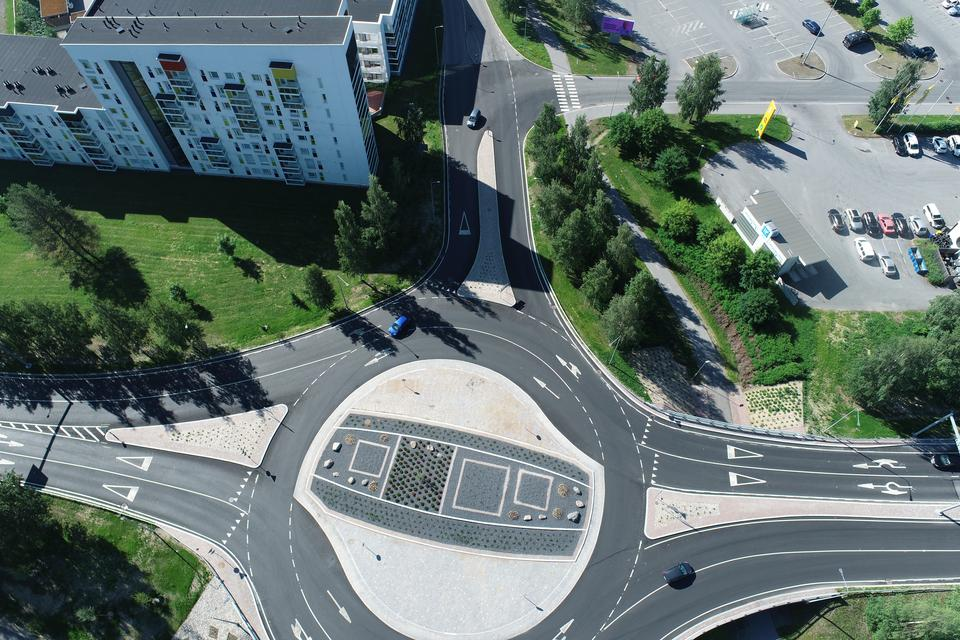intersection: (430, 52, 611, 141)
roundabout: (217, 291, 714, 640)
